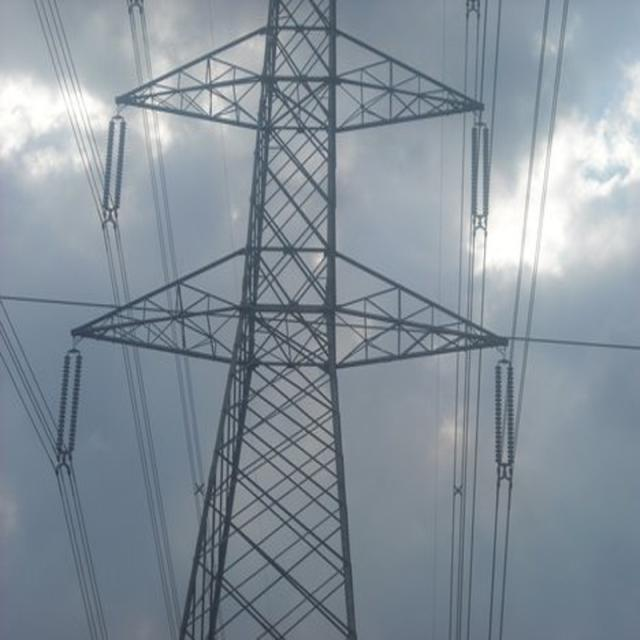non-critical vegetation: (102, 4, 421, 634)
